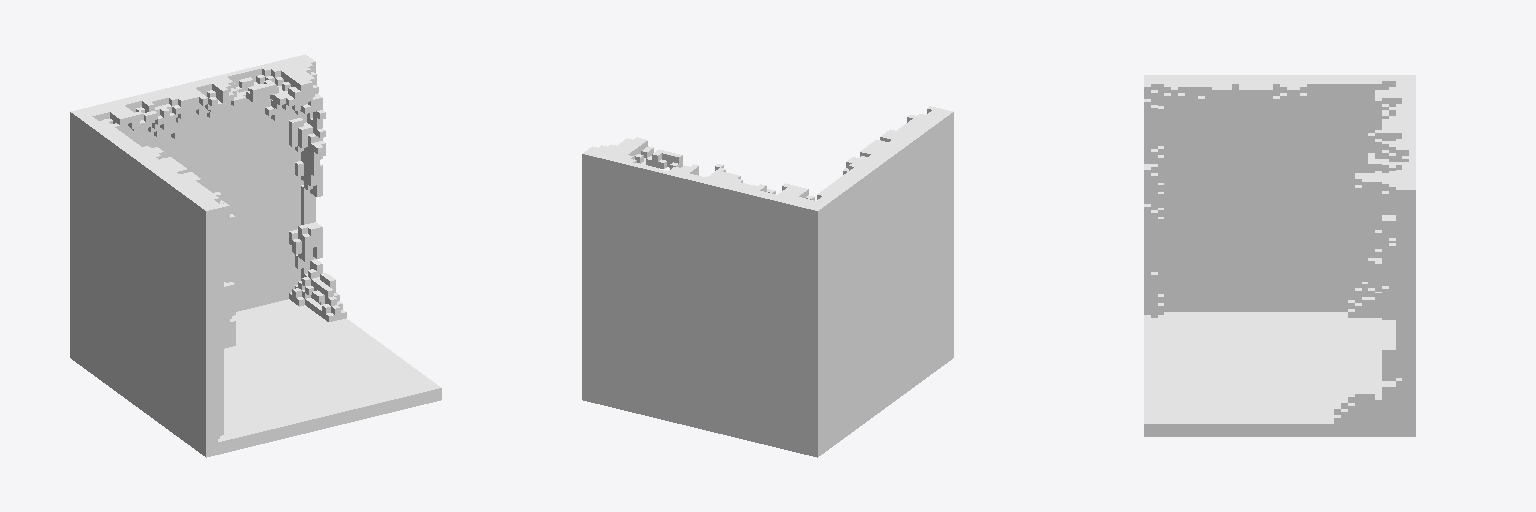
Rendered from LevelAssets-0.obj.
3 views of the same model, side by side, from view 1: azimuth 30°, elevation 25°; view 2: azimuth 150°, elevation 25°; view 3: azimuth 270°, elevation 25° (orthographic).
Parts seen in each view (by area): view 1: object 1; view 2: object 1; view 3: object 1.
Part boxes in pixels (x1,y1,x2,y2): object 1: (70,54,441,457); object 1: (582,106,953,457); object 1: (1144,75,1415,436).
Bounding box in the file's own units: 4 × 4 × 4.